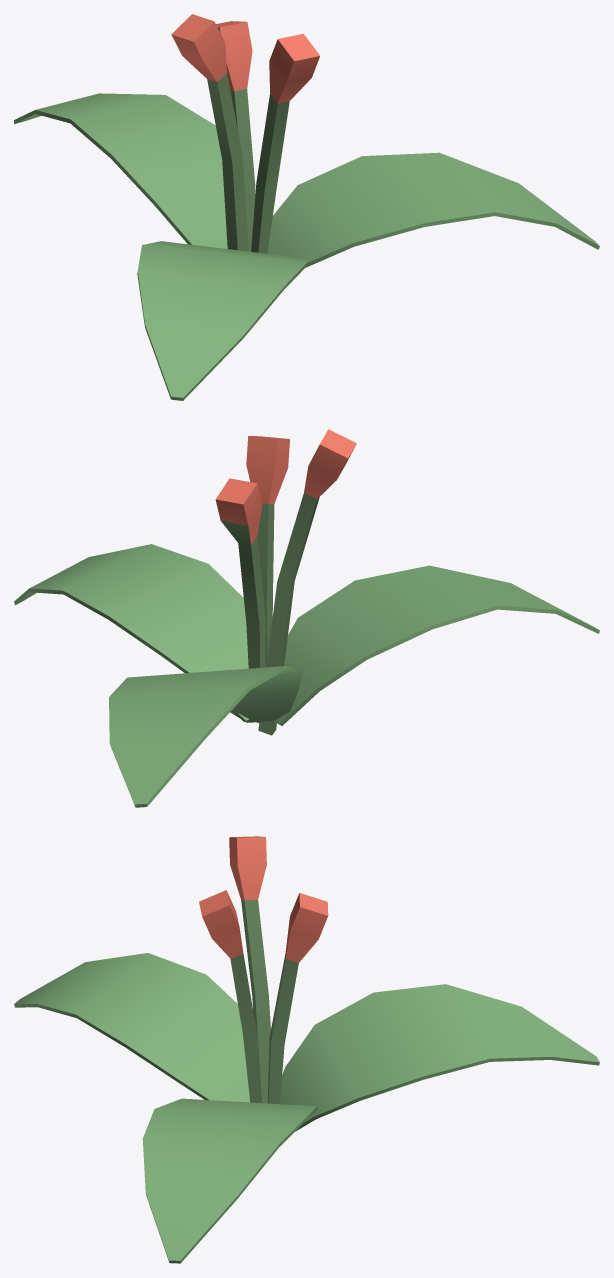
The model's file is Plants_Pack_Flower_01.fbx.
3 views of the same model, one above another, from view 1: azimuth 30°, elevation 25°; view 2: azimuth 150°, elevation 25°; view 3: azimuth 270°, elevation 25° (orthographic). The views are drawn at different scales.
Parts seen in each view (by area): view 1: Plants_Pack_Flower_01; view 2: Plants_Pack_Flower_01; view 3: Plants_Pack_Flower_01.
Part boxes in pixels (<box>): Plants_Pack_Flower_01: <box>14,14,599,400</box>; Plants_Pack_Flower_01: <box>14,429,599,807</box>; Plants_Pack_Flower_01: <box>14,836,599,1263</box>.
Size of the model in its own units: 86 by 49.36 by 91.84.
